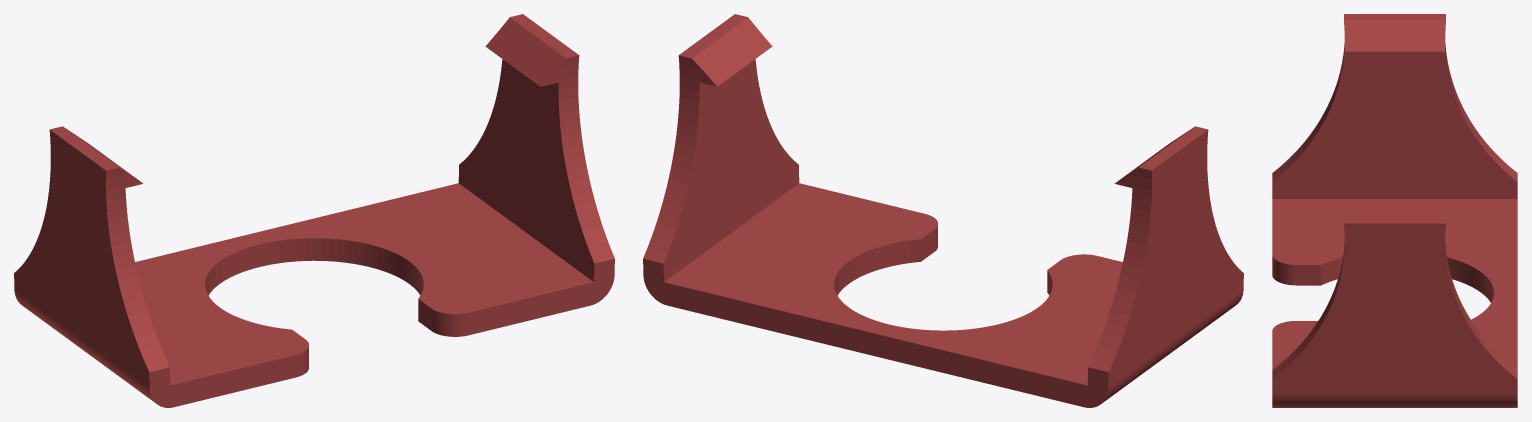
The model's file is AngelCutter-V3-33.glb.
The picture shows the model from 3 angles, left to right: view 1: azimuth 30°, elevation 25°; view 2: azimuth 150°, elevation 25°; view 3: azimuth 270°, elevation 25°; orthographic projection. The views are drawn at different scales.
Size of the model in its own units: 60.3 by 26.13 by 29.85.
